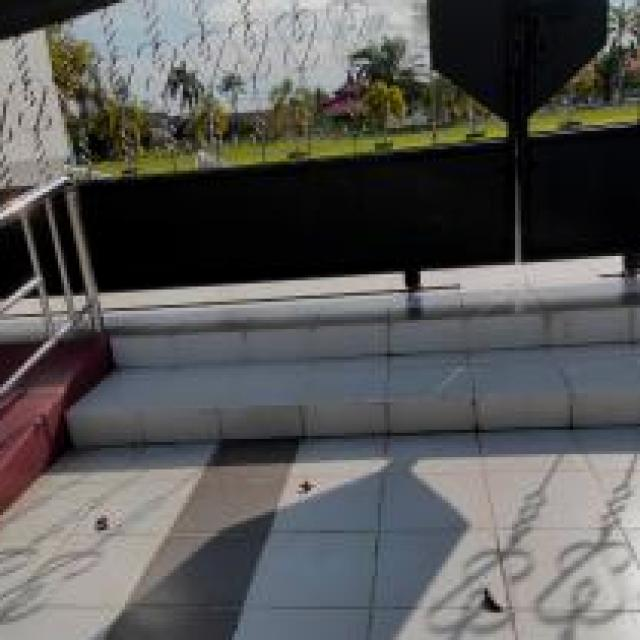upstair: (114, 300, 640, 477)
